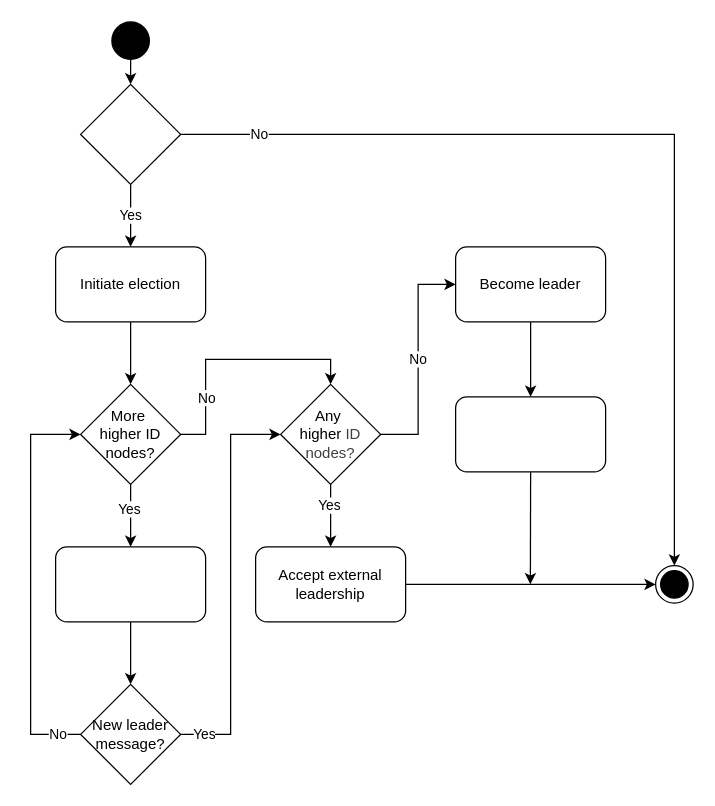
Image size: 715x806. Some labels were removed from this diagram. The shapes that lost their labels are listed below. From the top down, each one's box as (x1, y1, x2, y2) in pixels, then its label:
(79, 83, 181, 184): Leader down?
(454, 396, 606, 472): Announce leadership
(54, 546, 206, 622): Make next node initiate election
